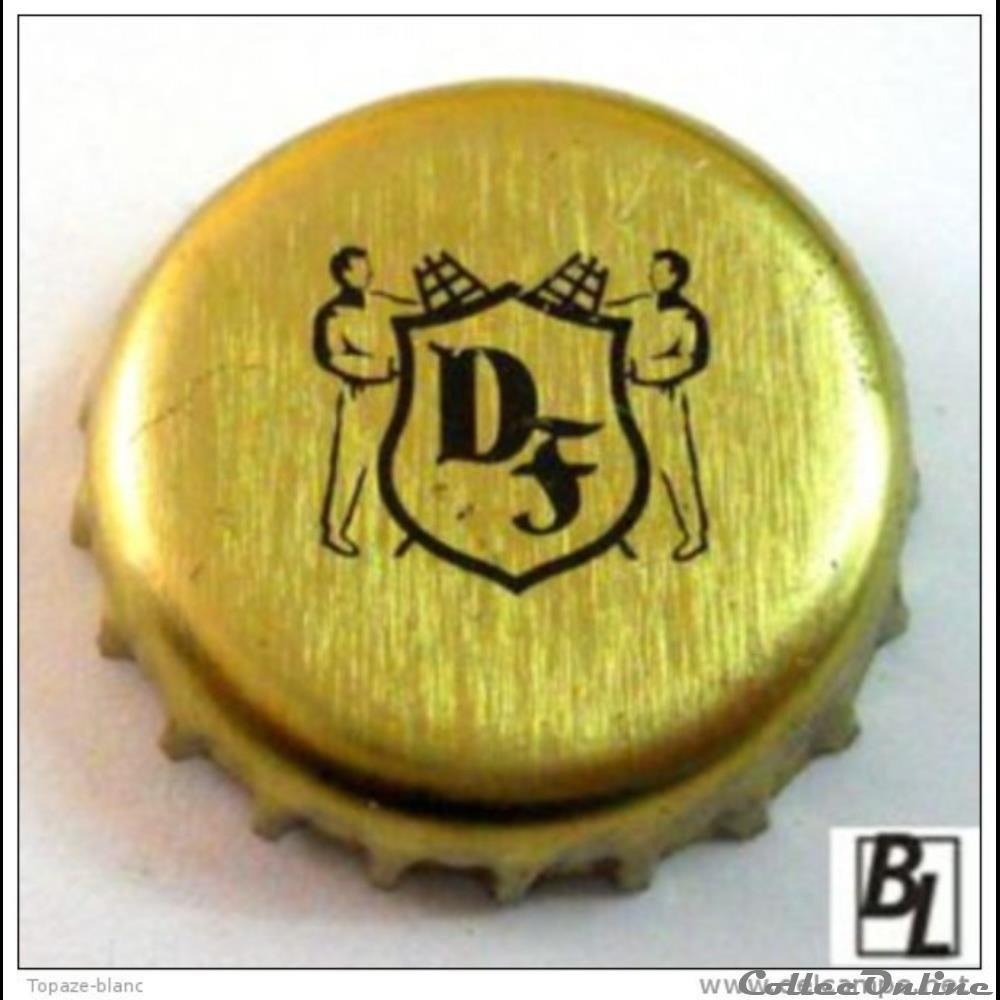metal: (73, 81, 915, 902)
